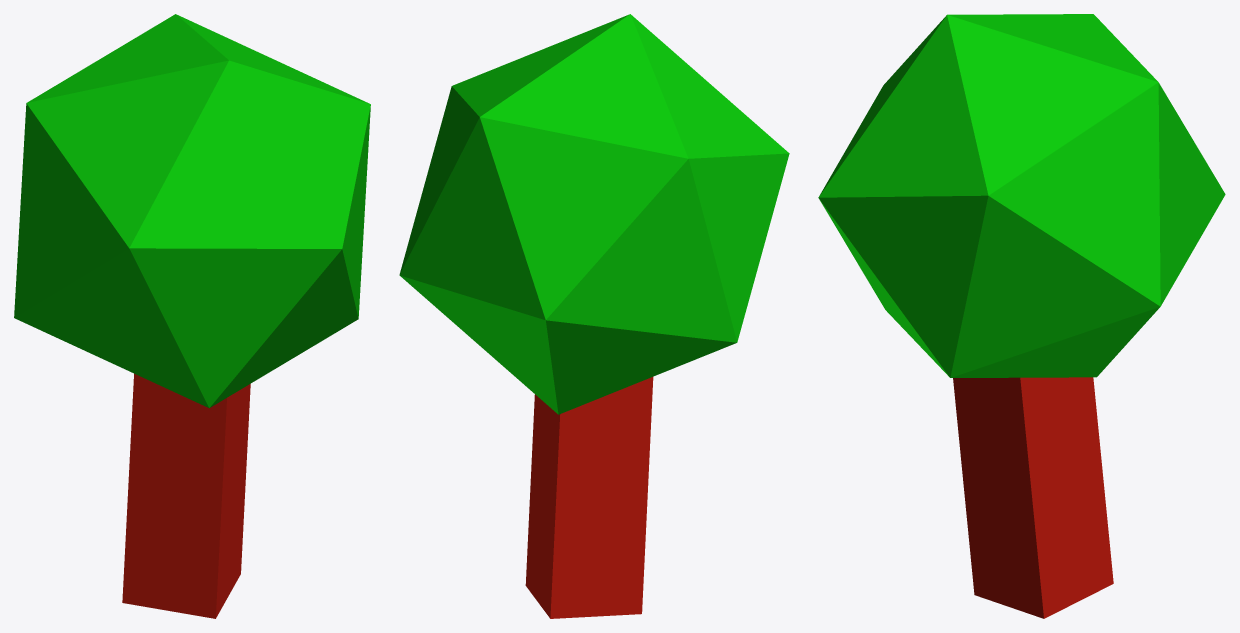
Rendered from tree1.obj.
3 renders of one model, left to right at view 1: azimuth 30°, elevation 25°; view 2: azimuth 150°, elevation 25°; view 3: azimuth 270°, elevation 25°, orthographic. The views are drawn at different scales.
Visible parts, largest first — view 1: Icosphere, Cylinder; view 2: Icosphere, Cylinder; view 3: Icosphere, Cylinder.
Boxes of the visible parts, x1,y1,x2,y2 form: Icosphere: (14, 14, 370, 408); Cylinder: (122, 373, 250, 618); Icosphere: (399, 14, 789, 414); Cylinder: (525, 377, 653, 618); Icosphere: (818, 14, 1225, 377); Cylinder: (953, 377, 1113, 618).
Bounding box in the file's own units: 2.31 × 3.87 × 2.46.
